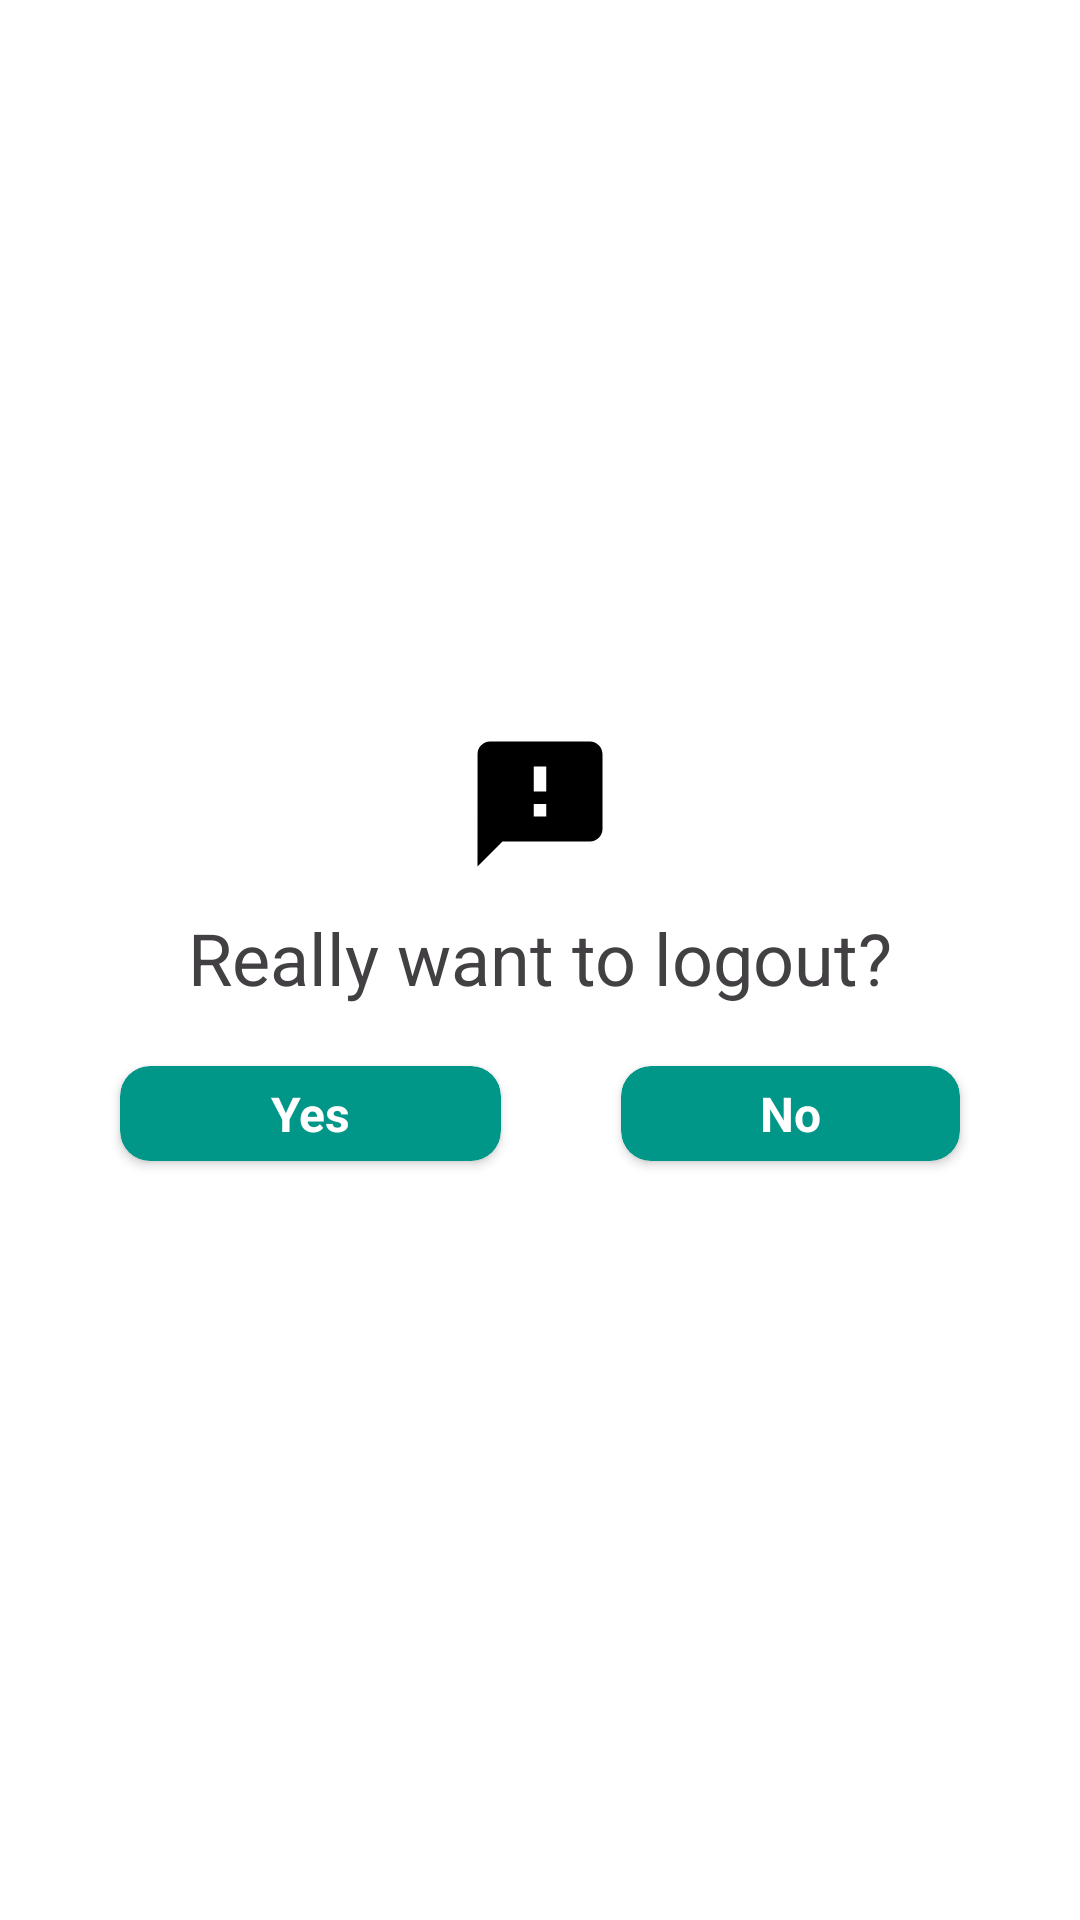

Screen size 1080*1920. Icon name, then its center in pixels as point (x, y):
feedback: point (540, 804)
